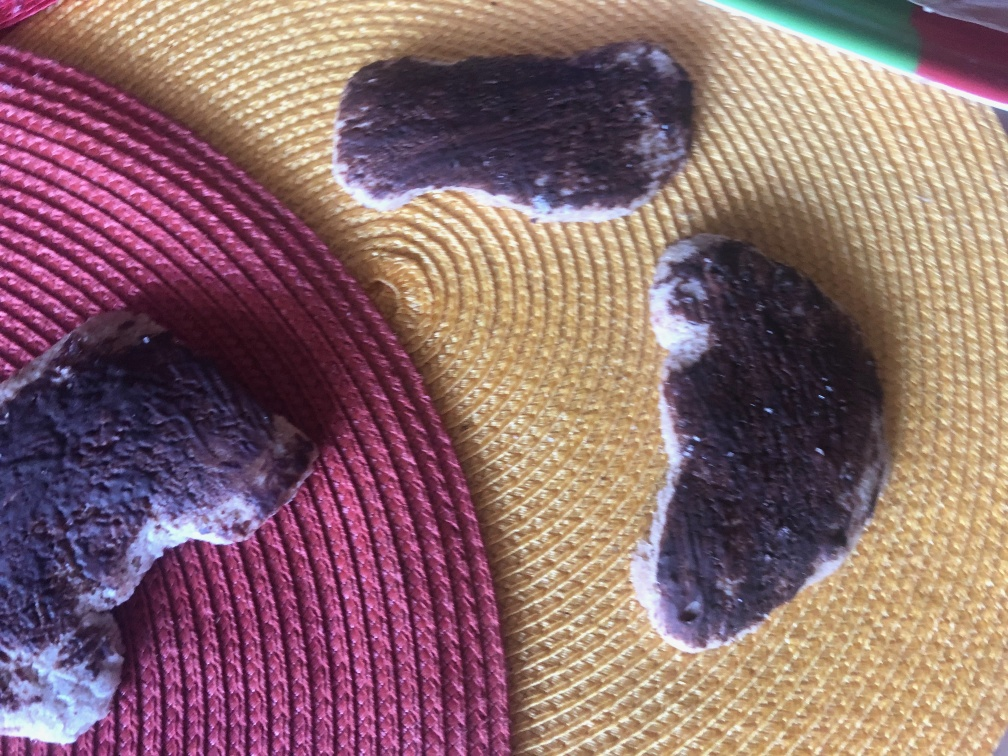weird #1: (5, 298, 329, 739), (635, 231, 897, 652), (329, 37, 691, 226)
